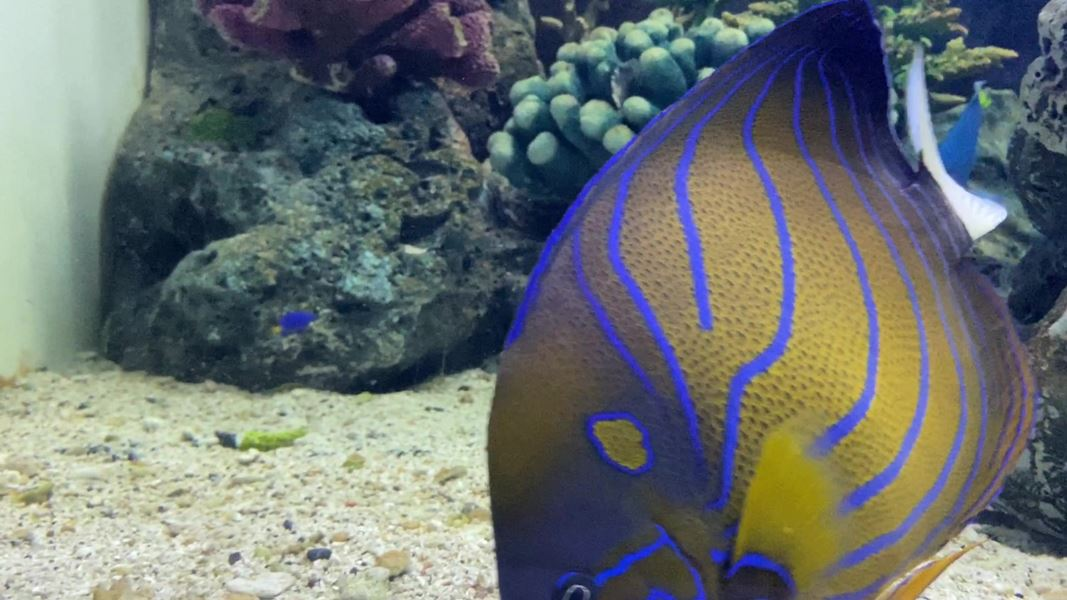Blue ring angelfish: (467, 10, 1048, 600)
